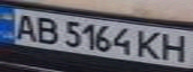1: (78, 21, 96, 51)
4: (112, 25, 136, 57)
5: (60, 18, 84, 48)
6: (93, 24, 115, 53)
A: (9, 11, 42, 42)
B: (30, 15, 60, 45)
H: (157, 32, 190, 63)
K: (133, 29, 166, 61)
